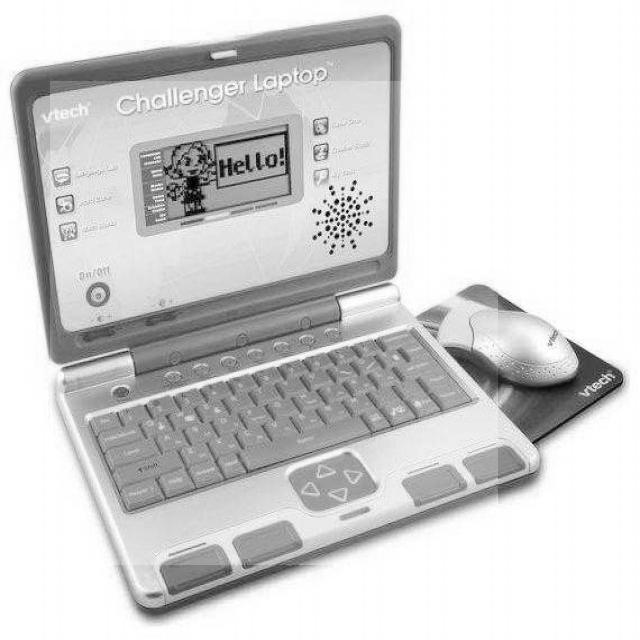-keyboard-: (50, 82, 498, 566)
